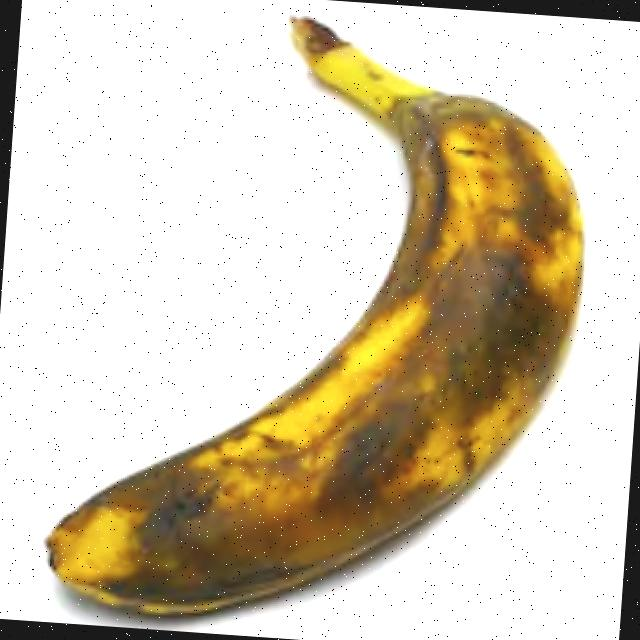Rotten: (12, 0, 607, 640)
